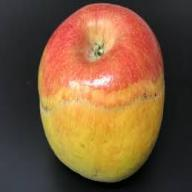apple: (37, 8, 164, 179)
